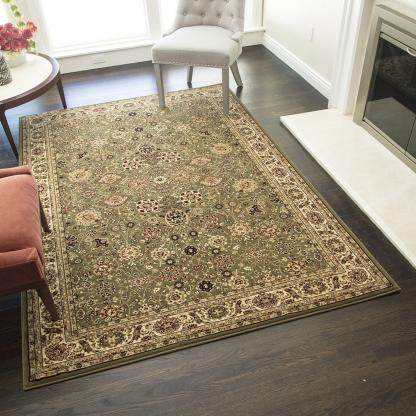Carpet: (20, 81, 397, 389)
